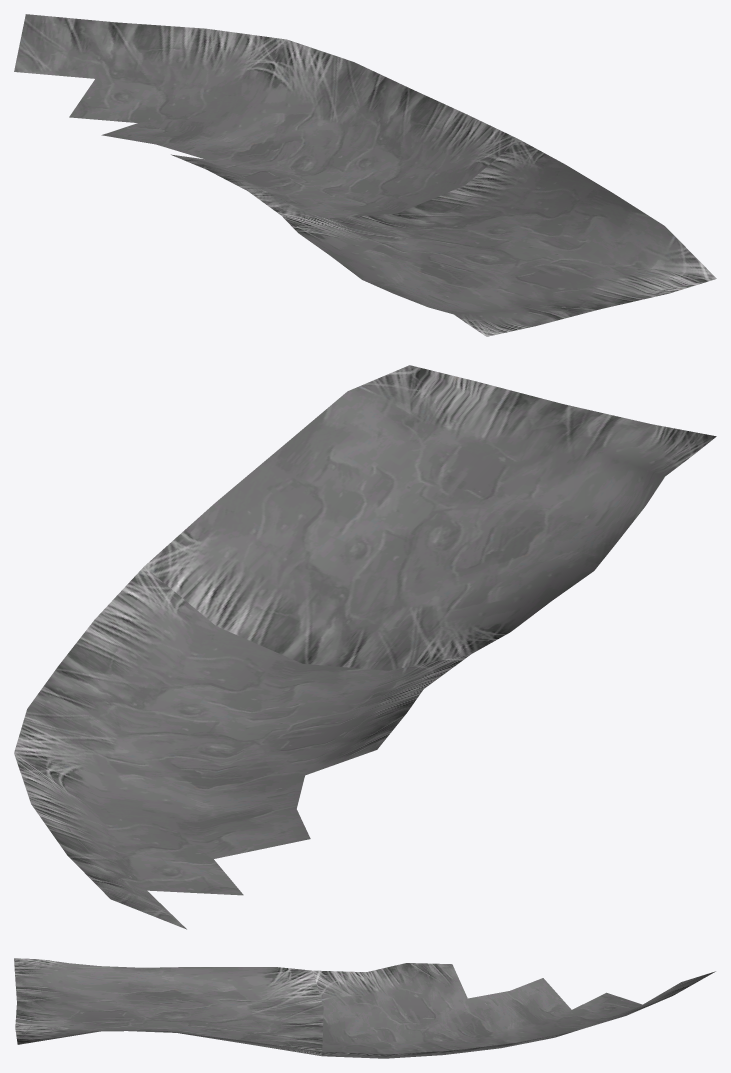
The model's file is SWORDLIGHT20_PS-AREA01_17.fbx.
3 views of the same model, one above another, from view 1: azimuth 30°, elevation 25°; view 2: azimuth 150°, elevation 25°; view 3: azimuth 270°, elevation 25° (orthographic). The views are drawn at different scales.
Parts seen in each view (by area): view 1: SWORDLIGHT20_PS-AREA01_17; view 2: SWORDLIGHT20_PS-AREA01_17; view 3: SWORDLIGHT20_PS-AREA01_17.
Boxes of the visible parts, bbox=[...] form: SWORDLIGHT20_PS-AREA01_17: bbox=[14, 14, 716, 336]; SWORDLIGHT20_PS-AREA01_17: bbox=[14, 365, 716, 929]; SWORDLIGHT20_PS-AREA01_17: bbox=[14, 958, 715, 1058].
Size of the model in its own units: 60910 by 16152 by 178825.
2 materials, 2 textured.
